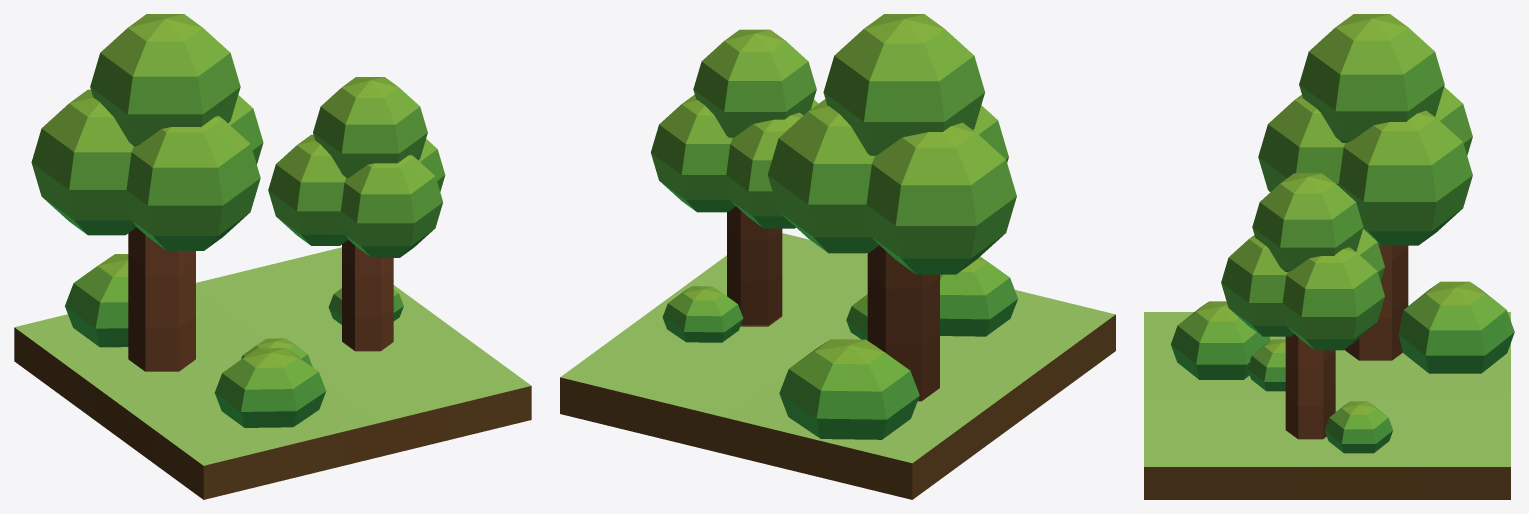
Rendered from compo chene.fbx.
3 views of the same model, side by side, from view 1: azimuth 30°, elevation 25°; view 2: azimuth 150°, elevation 25°; view 3: azimuth 270°, elevation 25° (orthographic). The views are drawn at different scales.
Visible parts, largest first — view 1: buisson.007; view 2: buisson.007; view 3: buisson.007.
Boxes of the visible parts, x1,y1,x2,y2 form: buisson.007: (14,14,531,499); buisson.007: (560,14,1115,499); buisson.007: (1144,14,1514,499).
Bounding box in the file's own units: 213 × 202 × 219.
